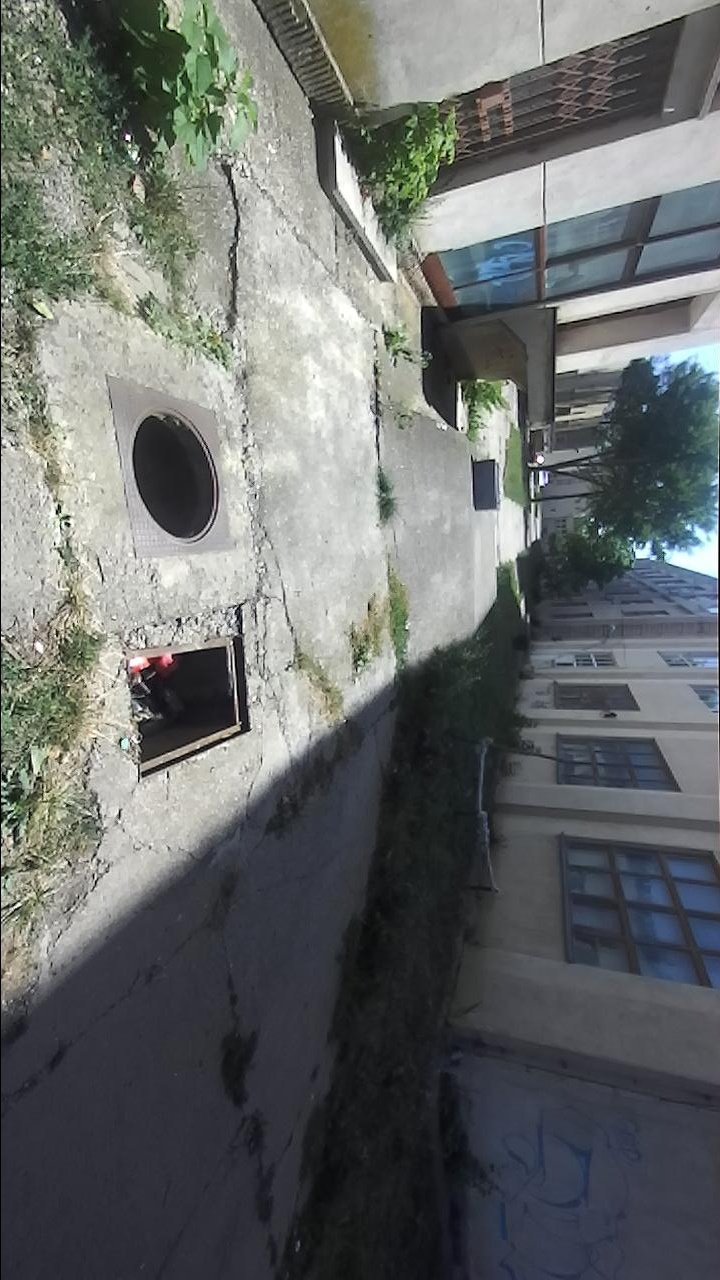drain: (125, 629, 253, 789), (124, 394, 225, 551)
